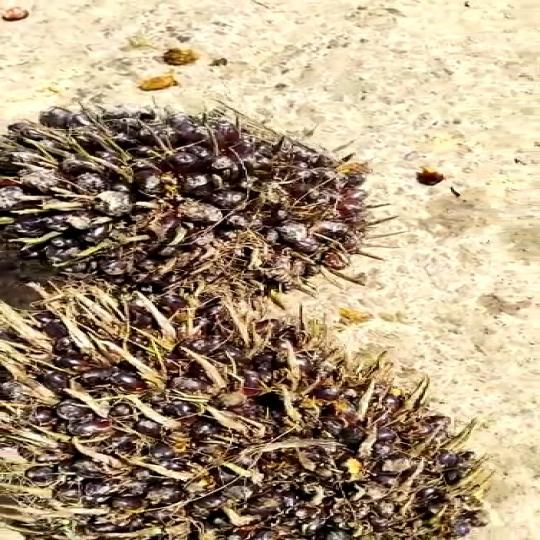mentah: (0, 288, 519, 540), (0, 104, 424, 307)
